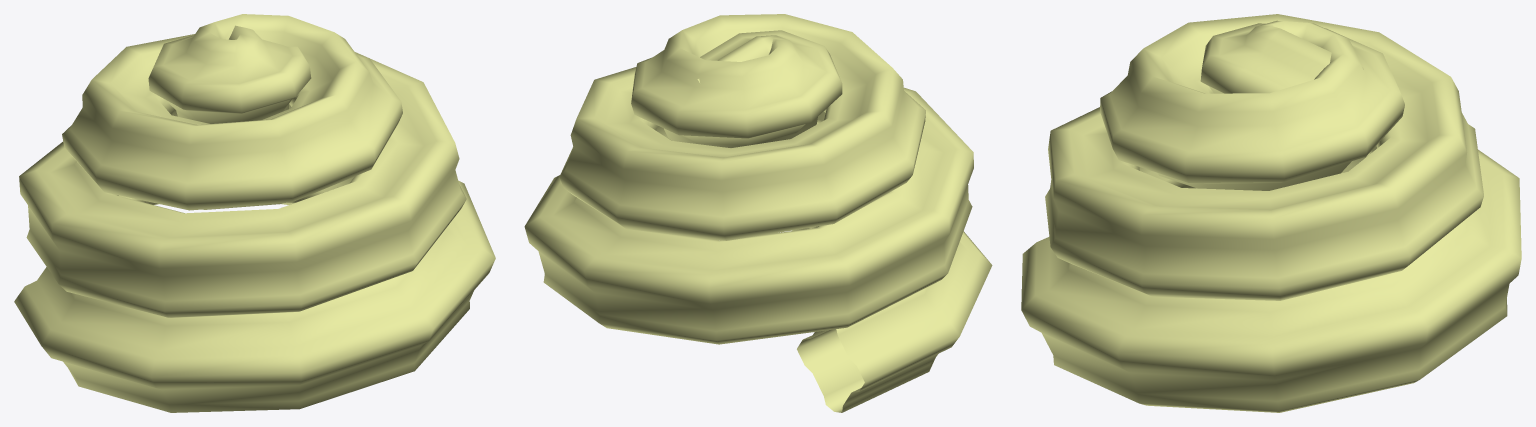
Rendered from suspiro.fbx.
The picture shows the model from 3 angles, left to right: view 1: azimuth 30°, elevation 25°; view 2: azimuth 150°, elevation 25°; view 3: azimuth 270°, elevation 25°; orthographic projection. The views are drawn at different scales.
Parts seen in each view (by area): view 1: Spiral; view 2: Spiral; view 3: Spiral.
Boxes of the visible parts, bbox=[...] form: Spiral: bbox=[14, 14, 495, 412]; Spiral: bbox=[524, 14, 992, 412]; Spiral: bbox=[1021, 14, 1521, 412].
Size of the model in its own units: 252 by 183 by 239.
